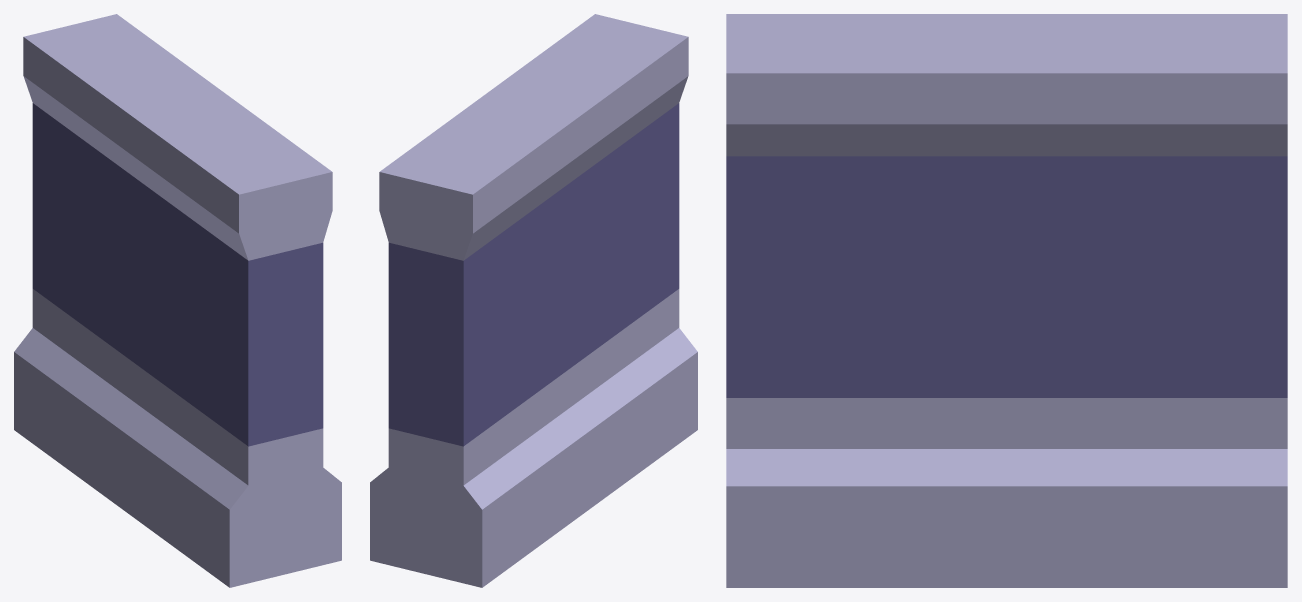
File: wall.glb
3 views of the same model, side by side, from view 1: azimuth 30°, elevation 25°; view 2: azimuth 150°, elevation 25°; view 3: azimuth 270°, elevation 25° (orthographic). The views are drawn at different scales.
Visible parts, largest first — view 1: wall; view 2: wall; view 3: wall.
Part boxes in pixels (x1,y1,x2,y2): wall: (14, 14, 341, 587); wall: (370, 14, 697, 587); wall: (726, 14, 1287, 587).
Size of the model in its own units: 0.3 by 1 by 1.
